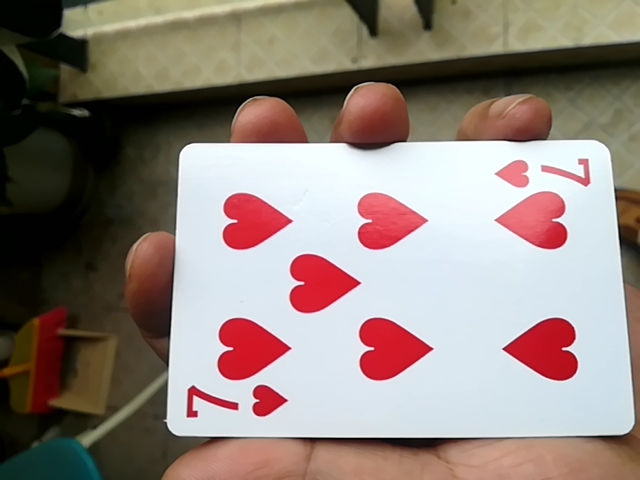hx 7: (146, 134, 622, 448)
